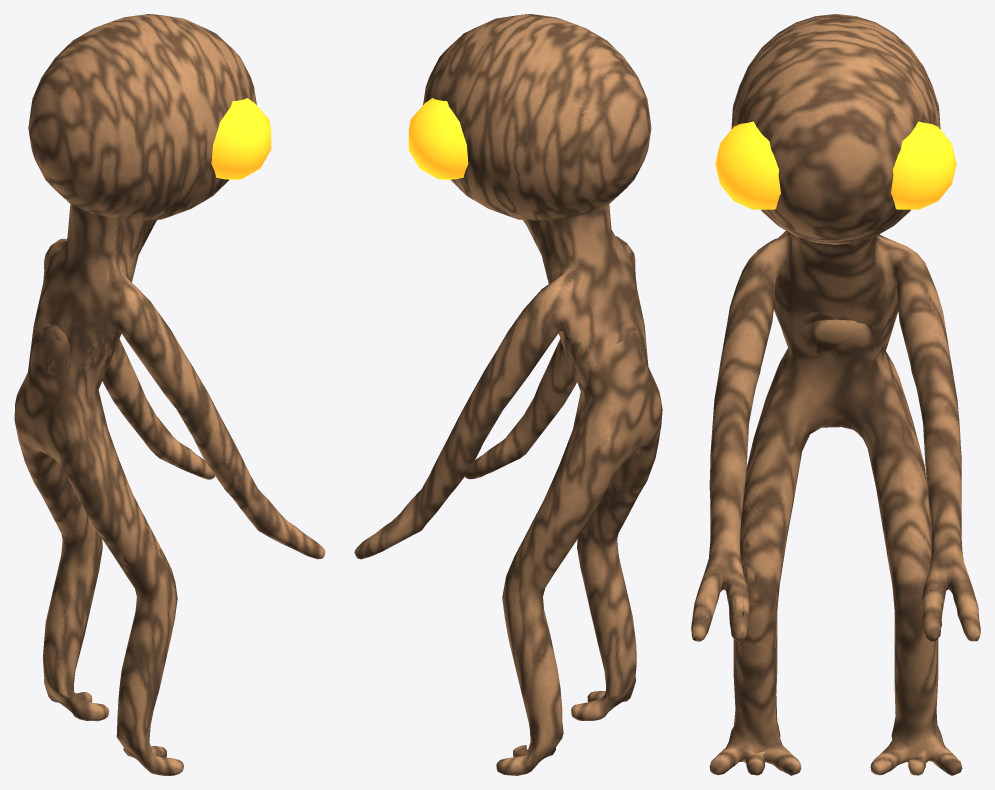
File: dover-demon.glb
3 renders of one model, left to right at view 1: azimuth 30°, elevation 25°; view 2: azimuth 150°, elevation 25°; view 3: azimuth 270°, elevation 25°, orthographic. The views are drawn at different scales.
Parts seen in each view (by area): view 1: dover-demon.001; view 2: dover-demon.001; view 3: dover-demon.001.
Part boxes in pixels (x1=…): dover-demon.001: x1=14, y1=14, x2=325, y2=775; dover-demon.001: x1=354, y1=14, x2=662, y2=775; dover-demon.001: x1=691, y1=14, x2=980, y2=775.
Size of the model in its own units: 0.343 by 1.04 by 0.36.
Materials: 2 (1 with a texture image).
